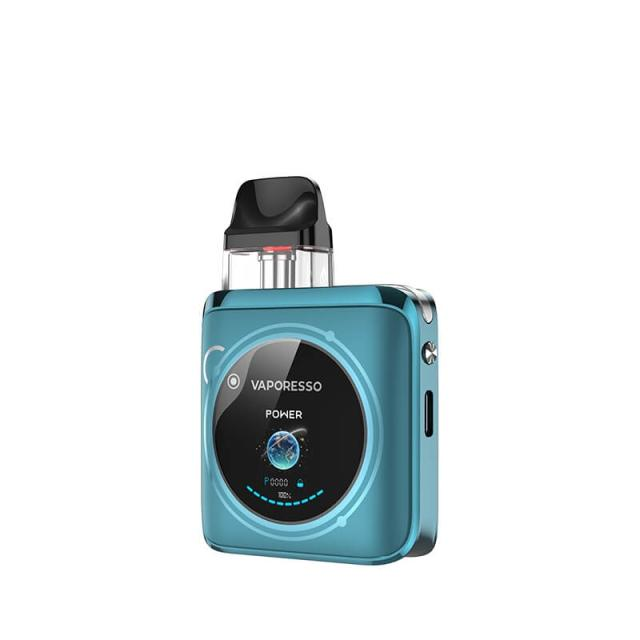Vape-images: (198, 174, 440, 566)
